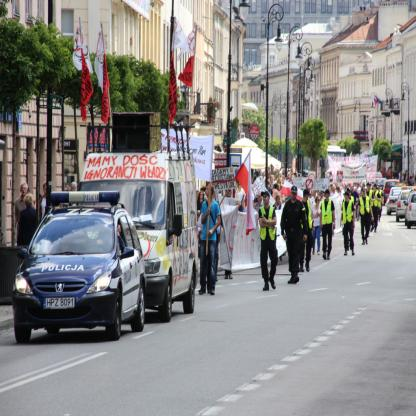Car: (11, 191, 142, 341), (376, 173, 416, 228)
